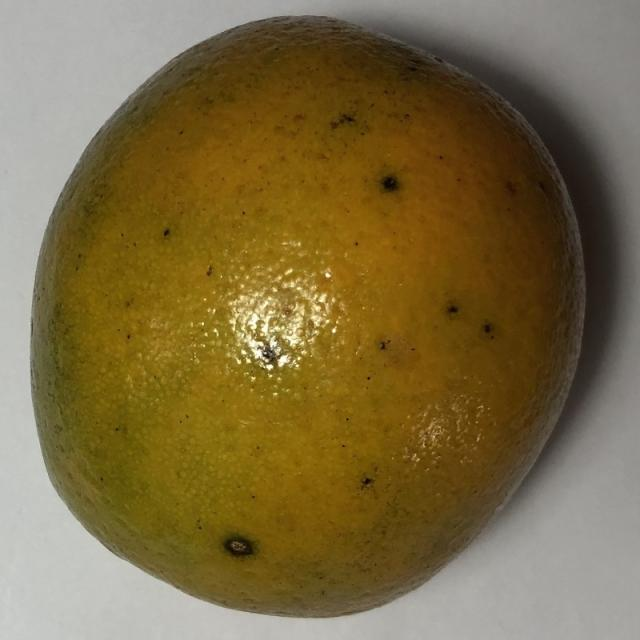blackspot: (17, 4, 606, 621)
